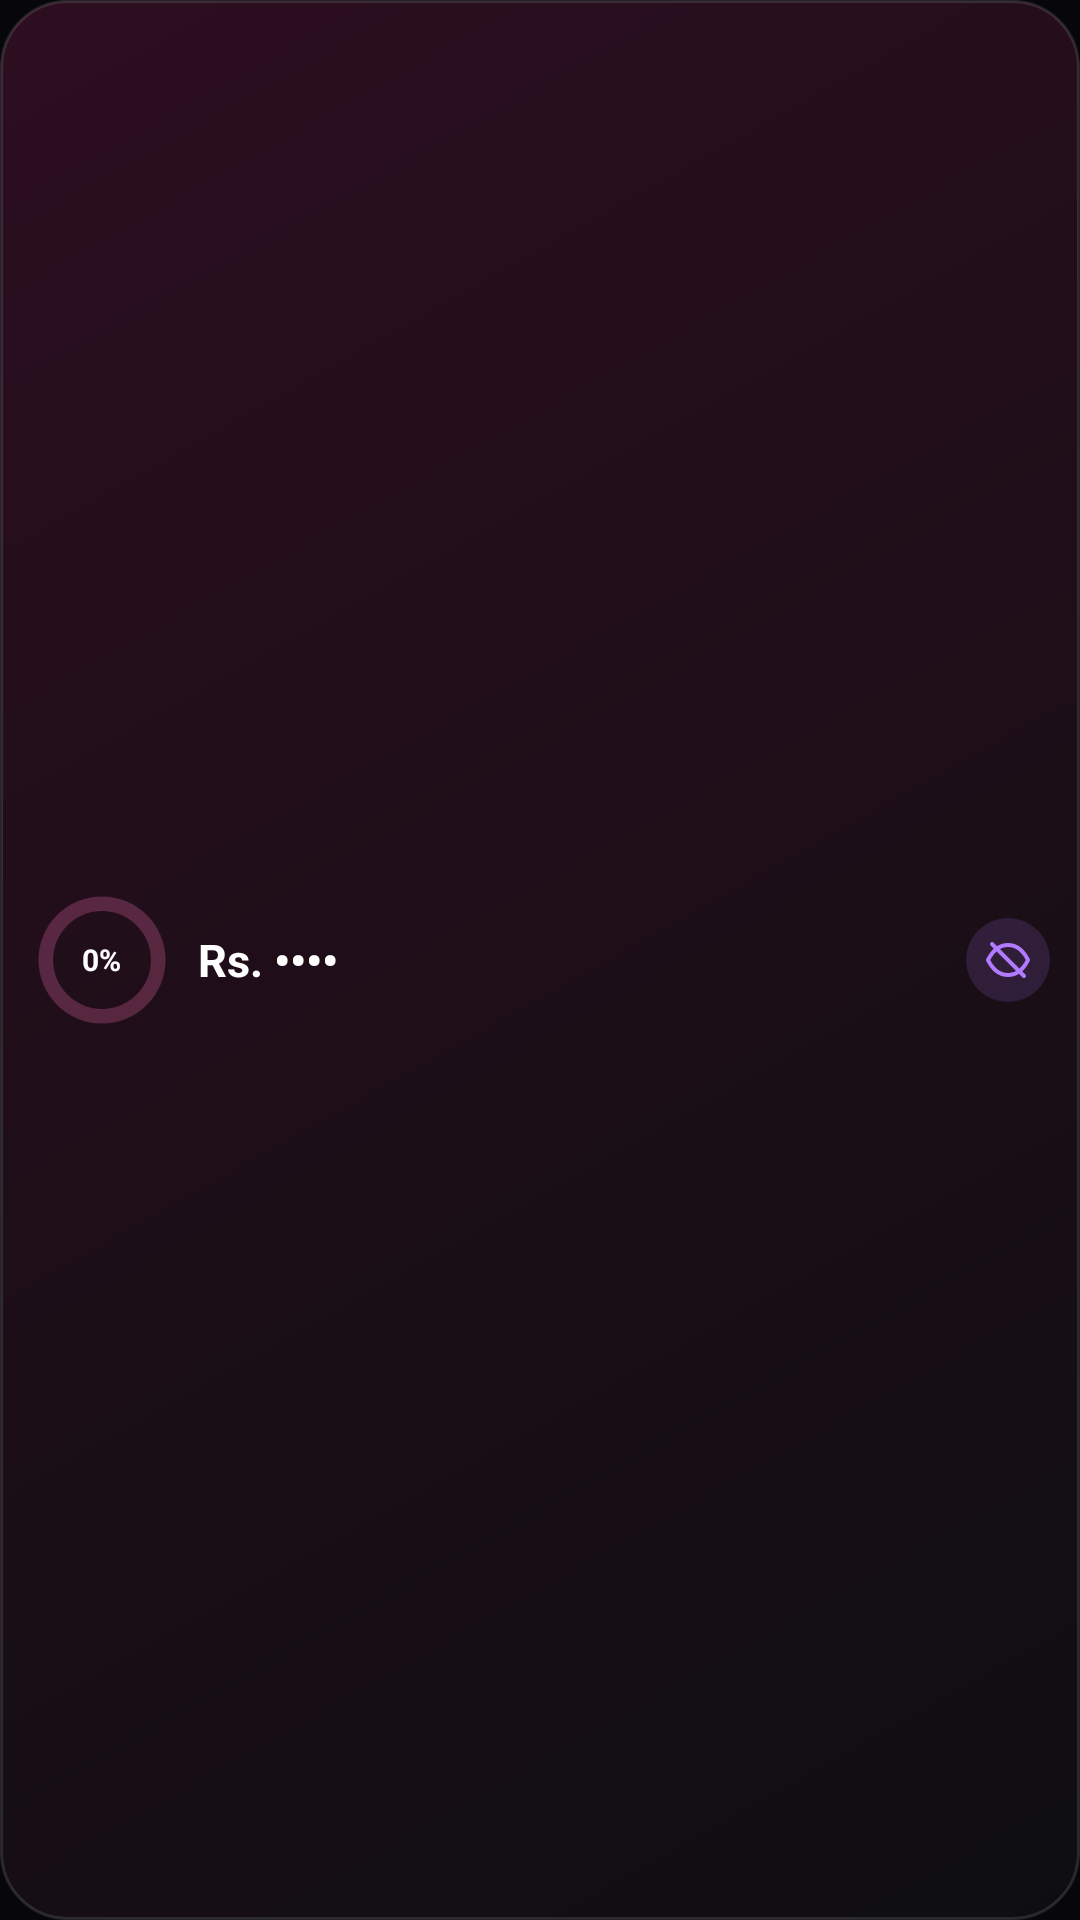

Named icons in this screenshot (1080 x 1920) and their centers, (x=x, y=y):
Show amounts: (x=1008, y=960)
widget ring: (x=102, y=960)
